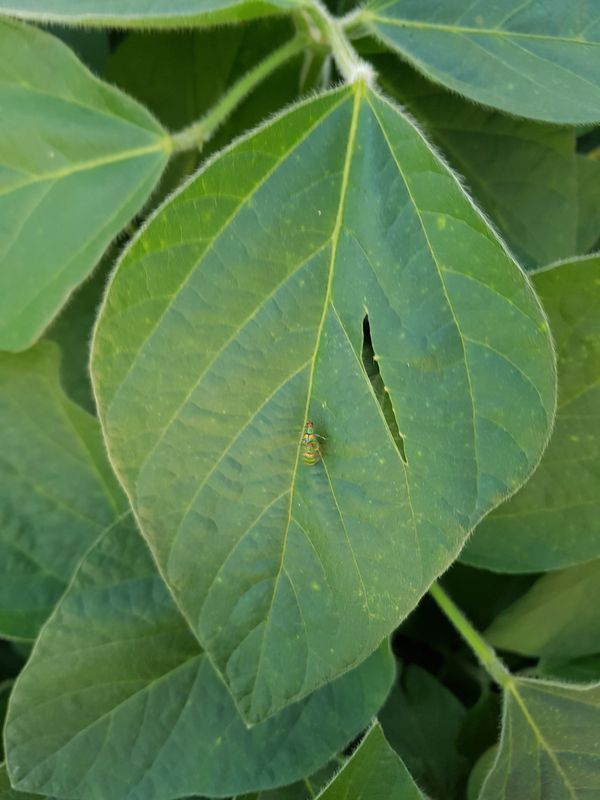Diabrotica_speciosa: (291, 418, 333, 477)
